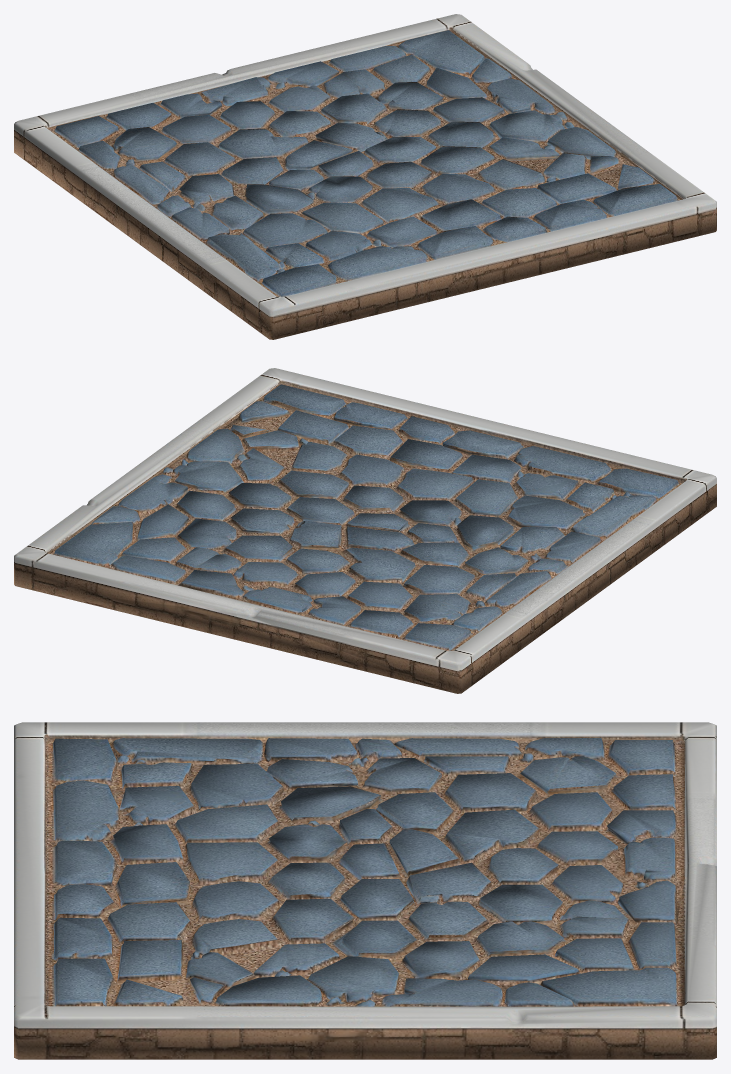
Rendered from tripo_convert_ecaf77f1-63c8-45a6-ba1a-772fd148ae13.fbx.
3 views of the same model, one above another, from view 1: azimuth 30°, elevation 25°; view 2: azimuth 150°, elevation 25°; view 3: azimuth 270°, elevation 25° (orthographic). The views are drawn at different scales.
Parts seen in each view (by area): view 1: tripo_node_ecaf77f1; view 2: tripo_node_ecaf77f1; view 3: tripo_node_ecaf77f1.
Part boxes in pixels (bbox=[...]): tripo_node_ecaf77f1: bbox=[14, 14, 716, 339]; tripo_node_ecaf77f1: bbox=[14, 368, 716, 693]; tripo_node_ecaf77f1: bbox=[14, 722, 716, 1059].
Size of the model in its own units: 0.998 by 0.0645 by 0.998.
Materials: 1 (1 with a texture image).
